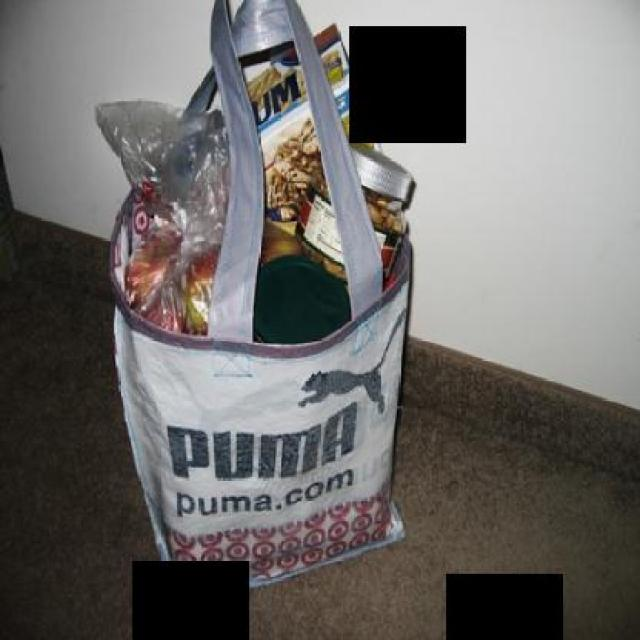plastic bag: (96, 85, 236, 366)
